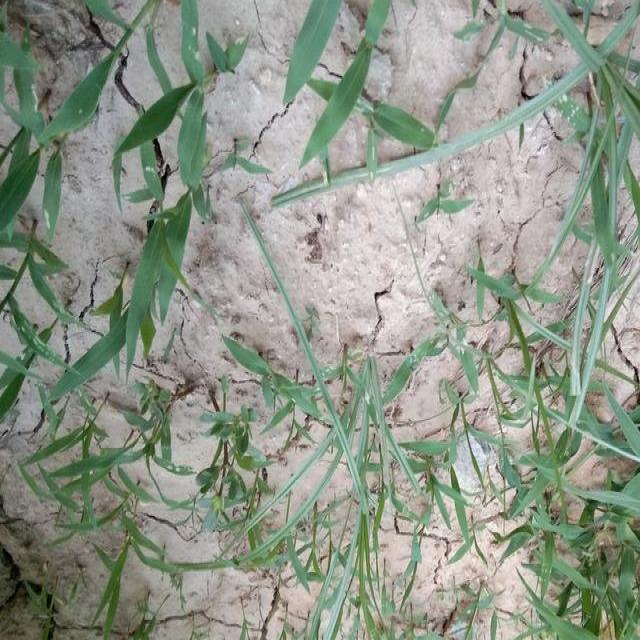weed: (244, 343, 640, 640), (4, 248, 197, 616), (497, 7, 640, 411), (283, 0, 444, 160), (2, 52, 110, 236), (128, 5, 216, 194)
